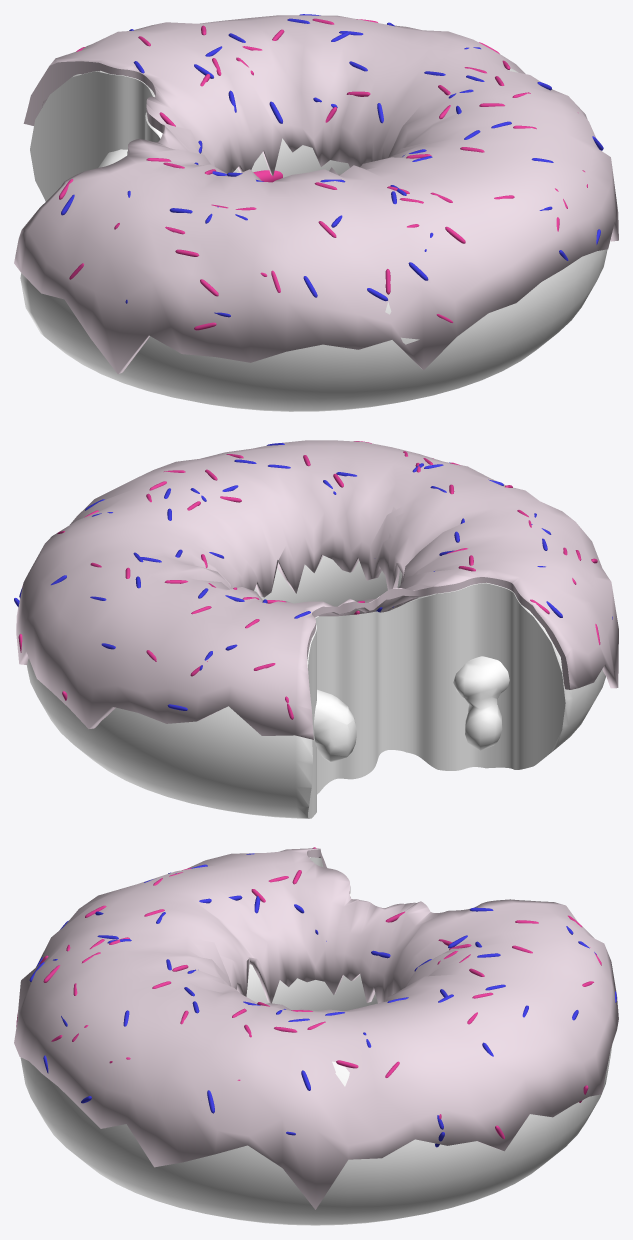
The model's file is jelly.gltf.
The picture shows the model from 3 angles, top to bottom: view 1: azimuth 30°, elevation 25°; view 2: azimuth 150°, elevation 25°; view 3: azimuth 270°, elevation 25°; orthographic projection. The views are drawn at different scales.
Visible parts, largest first — view 1: Torus.002, Torus.003; view 2: Torus.002, Torus.003, Mball.004; view 3: Torus.002, Torus.003.
Boxes of the visible parts, bbox=[...] form: Torus.002: bbox=[14, 15, 618, 374]; Torus.003: bbox=[20, 68, 607, 411]; Torus.002: bbox=[16, 440, 618, 739]; Torus.003: bbox=[26, 555, 605, 818]; Mball.004: bbox=[314, 656, 509, 762]; Torus.002: bbox=[14, 848, 618, 1209]; Torus.003: bbox=[20, 857, 612, 1225].
Bounding box in the file's own units: 2.18 × 0.7814 × 2.18.
